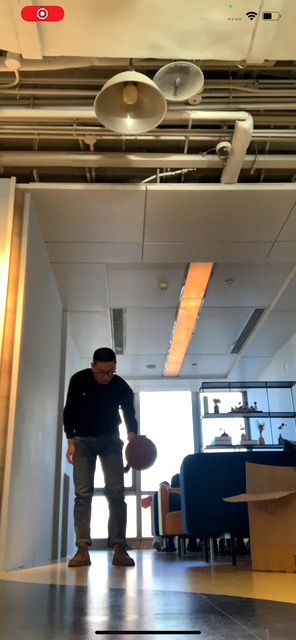ball: (126, 436, 157, 471)
